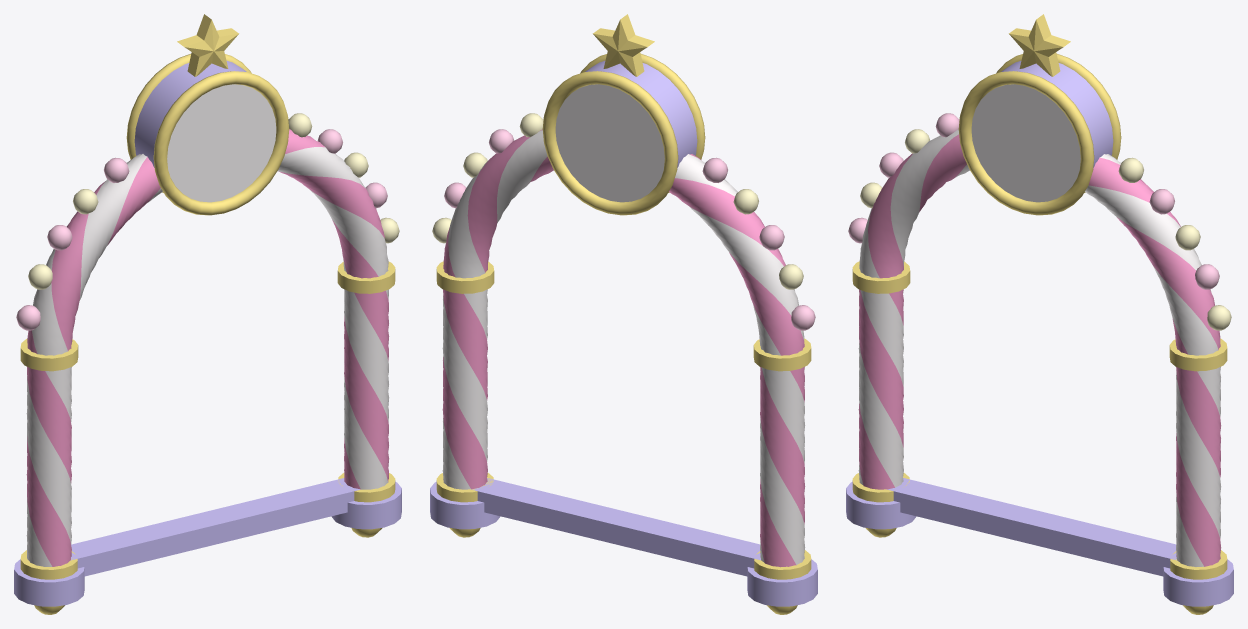
Rendered from gate.glb.
3 renders of one model, left to right at view 1: azimuth 30°, elevation 25°; view 2: azimuth 150°, elevation 25°; view 3: azimuth 330°, elevation 25°, orthographic.
Parts seen in each view (by area): view 1: gate; view 2: gate; view 3: gate.
Part boxes in pixels (x1,y1,x2,y2): gate: (14,14,401,614); gate: (430,14,817,614); gate: (846,14,1233,614).
Size of the model in its own units: 8.15 by 11.43 by 1.32.
